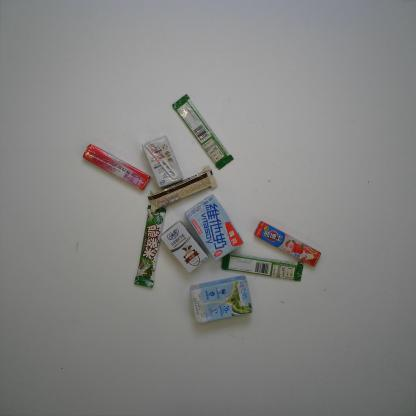Candy: (250, 218, 322, 269), (81, 142, 152, 192)
Chocolate: (169, 92, 235, 171), (143, 162, 220, 214), (216, 250, 307, 284), (133, 203, 167, 289)
Milk: (182, 191, 244, 264), (187, 274, 255, 327), (158, 219, 210, 275), (141, 134, 182, 188)
